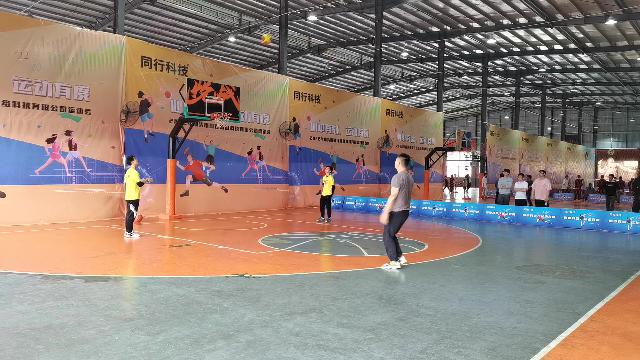ball: (260, 32, 272, 44)
basket: (210, 112, 232, 126)
